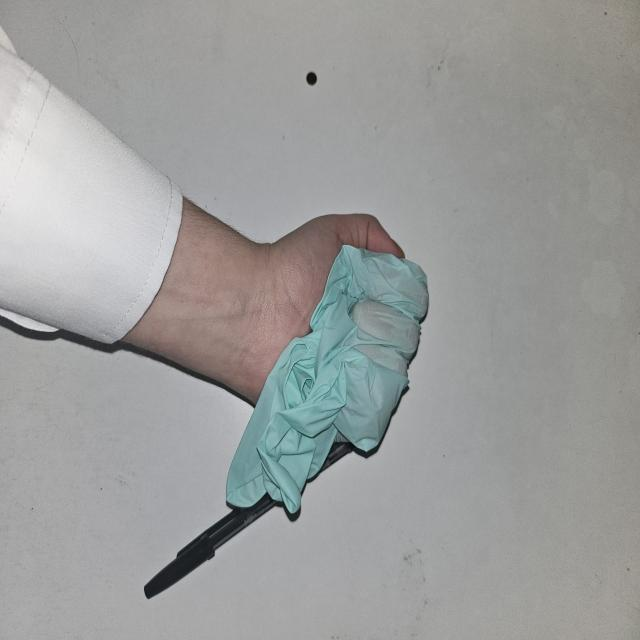glove_partial: (225, 212, 430, 515)
